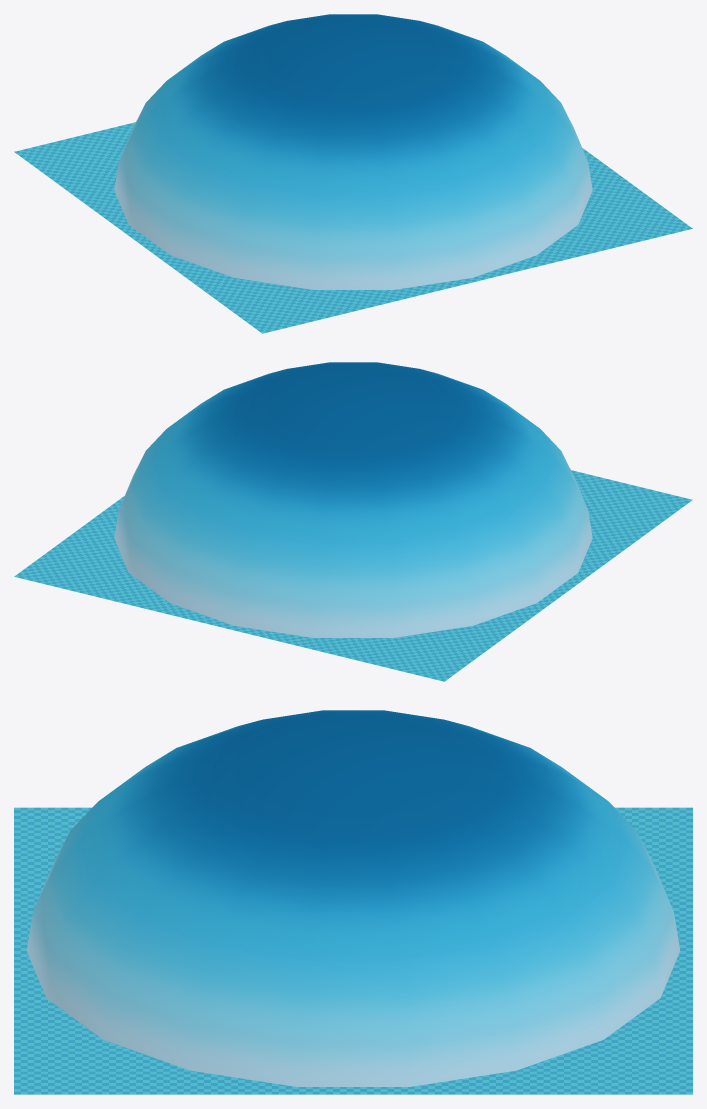
File: set.glb
The picture shows the model from 3 angles, top to bottom: view 1: azimuth 30°, elevation 25°; view 2: azimuth 150°, elevation 25°; view 3: azimuth 270°, elevation 25°; orthographic projection. The views are drawn at different scales.
Parts seen in each view (by area): view 1: sky, floor; view 2: sky, floor; view 3: sky, floor.
Part boxes in pixels (x1,y1,x2,y2): sky: (114,14,592,289); floor: (14,122,692,333); sky: (114,362,592,637); floor: (14,470,692,681); sky: (26,710,680,1086); floor: (14,807,692,1094).
Bounding box in the file's own units: 208 × 66.99 × 208.
3 materials, 3 textured.
